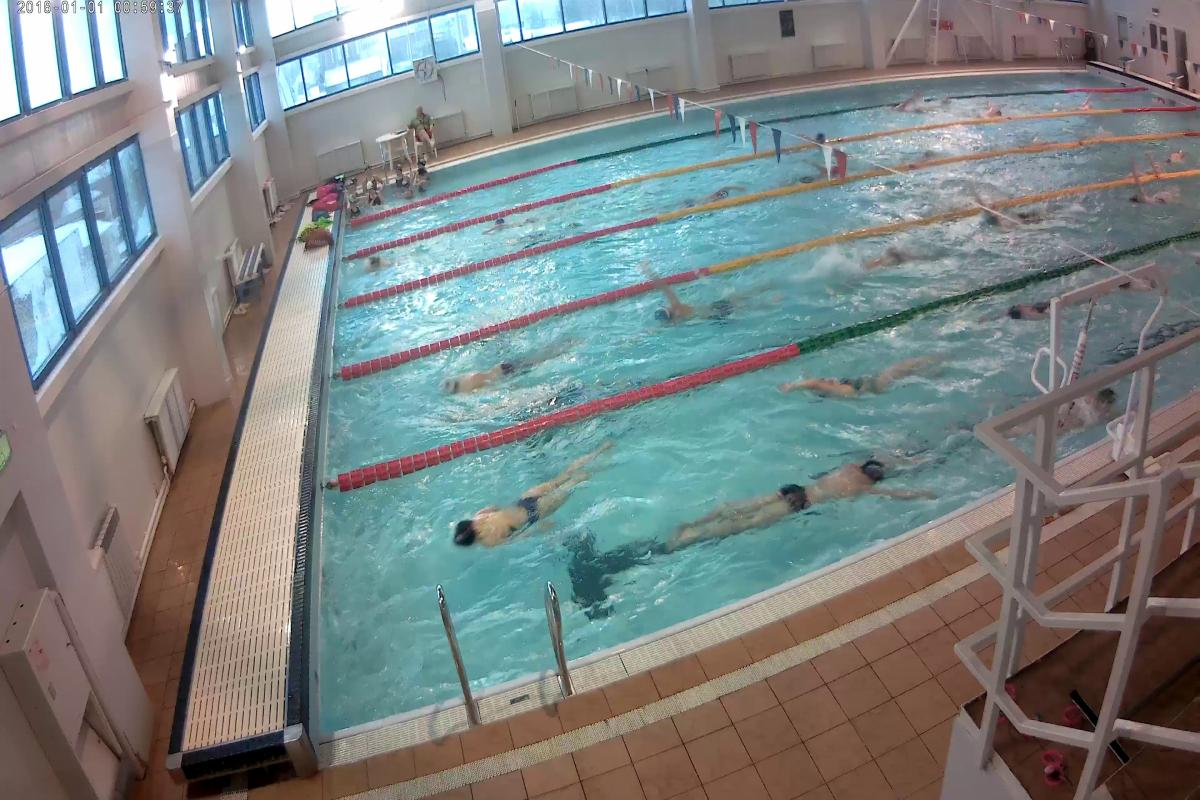swimmer: (684, 460, 900, 544), (468, 458, 604, 541), (780, 356, 935, 406), (648, 273, 785, 325), (437, 341, 565, 388), (1056, 393, 1116, 433), (1106, 187, 1184, 213), (858, 238, 930, 266), (1014, 286, 1054, 335), (995, 202, 1043, 240)
